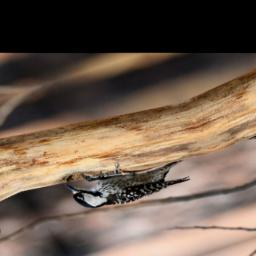Woodpecker: (59, 145, 197, 217)
